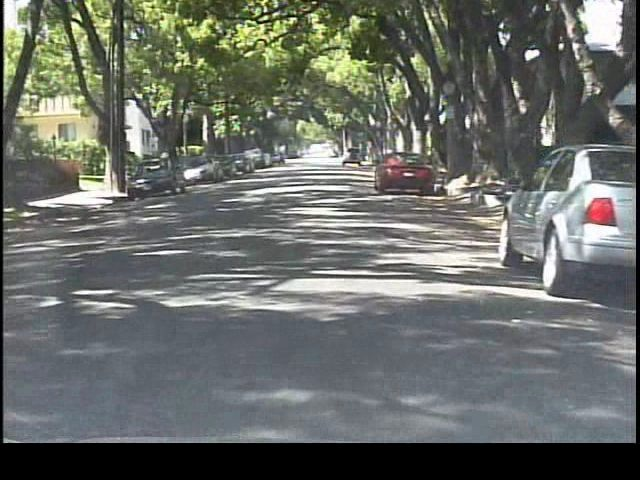person: (158, 149, 177, 186)
